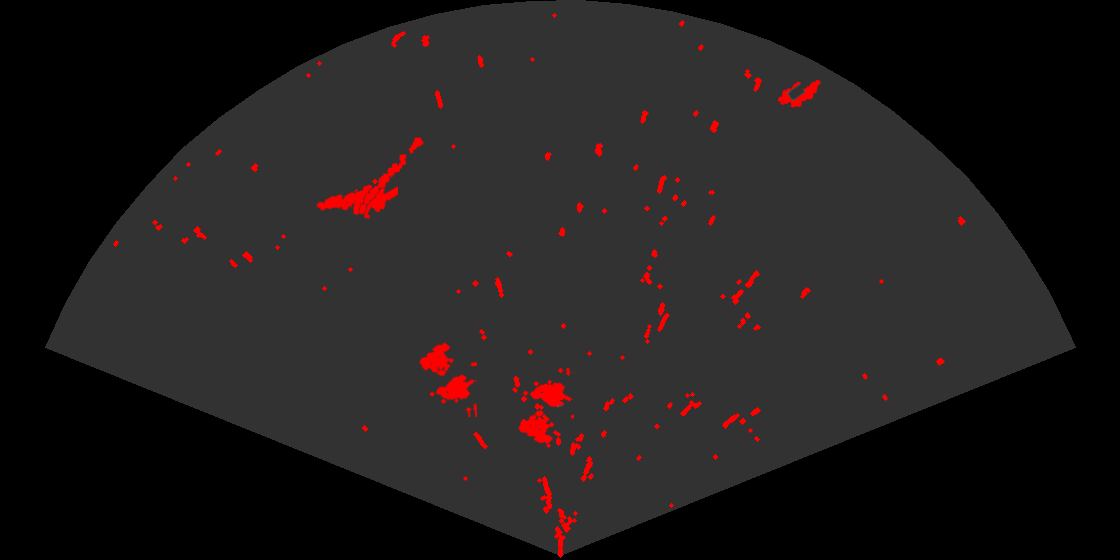AUV: (776, 78, 822, 109)
cage: (417, 340, 477, 417), (517, 368, 574, 446)
chain: (358, 136, 425, 216)
frogman: (315, 183, 398, 221)
